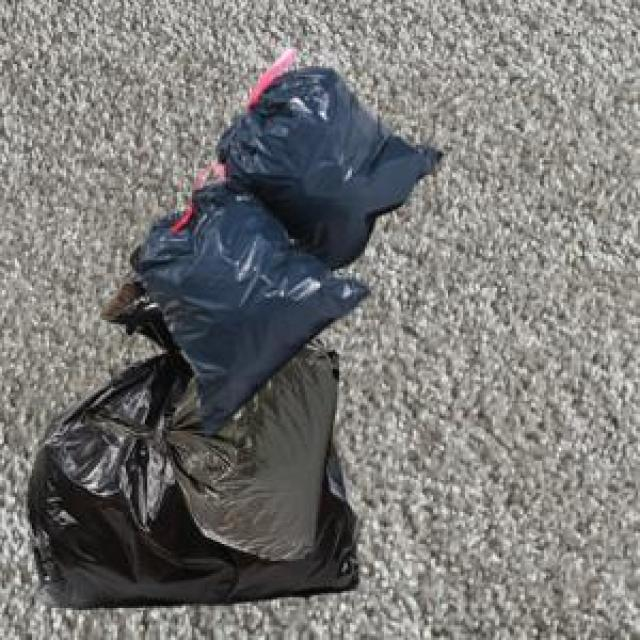Trashbag: (148, 206, 322, 400), (175, 368, 340, 556), (258, 77, 405, 245)
